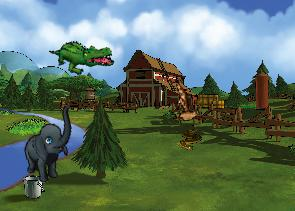crocodile: (48, 30, 116, 82)
eagle: (156, 79, 215, 136)
elephant: (15, 105, 85, 185)
